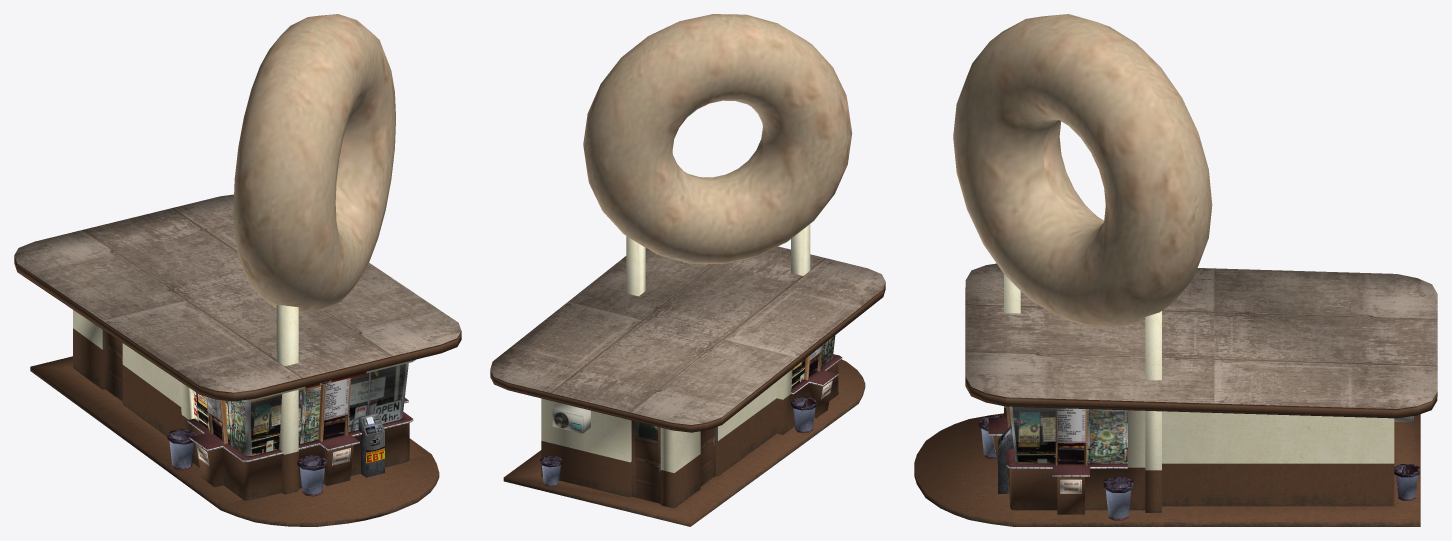
Rendered from DonutShop.fbx.
3 renders of one model, left to right at view 1: azimuth 30°, elevation 25°; view 2: azimuth 150°, elevation 25°; view 3: azimuth 270°, elevation 25°, orthographic. The views are drawn at different scales.
Visible parts, largest first — view 1: DonutShop_LOD0; view 2: DonutShop_LOD0; view 3: DonutShop_LOD0.
Boxes of the visible parts, x1,y1,x2,y2 form: DonutShop_LOD0: (14,14,461,526); DonutShop_LOD0: (490,14,885,526); DonutShop_LOD0: (914,14,1437,526).
Size of what is drawn, in the model's own units: 687 by 1072 by 1109.
